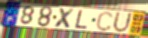8: (37, 6, 53, 28), (20, 6, 35, 26)
C: (95, 11, 115, 33)
L: (74, 10, 89, 30)
U: (111, 11, 134, 34)
X: (53, 7, 76, 30)
